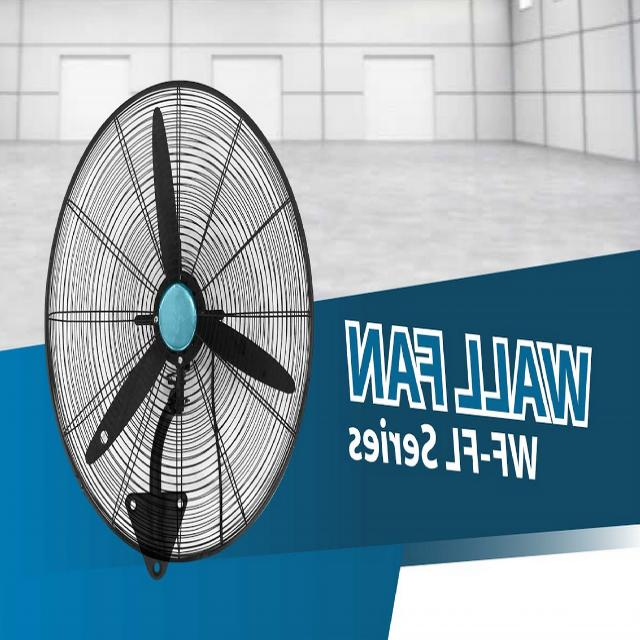fan: (43, 78, 312, 584)
